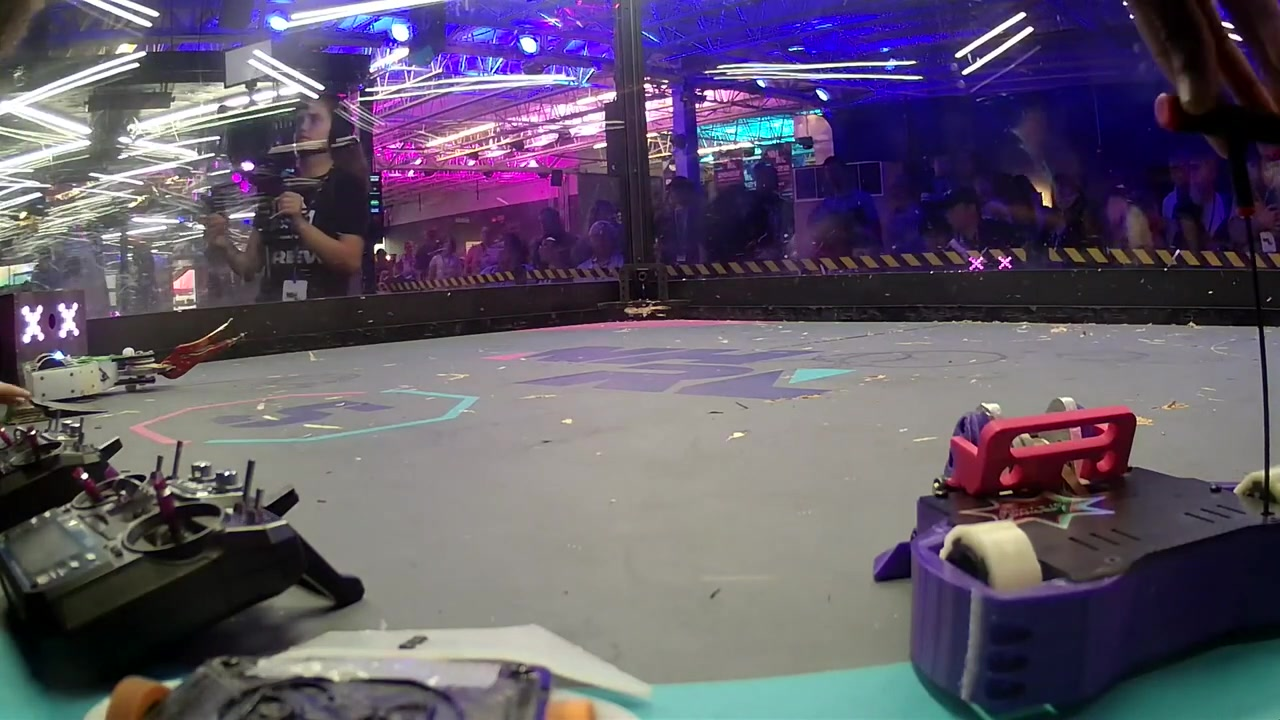combatbot: (870, 396, 1280, 720), (109, 626, 651, 719), (26, 316, 246, 398)
housebot: (1, 291, 88, 378)
